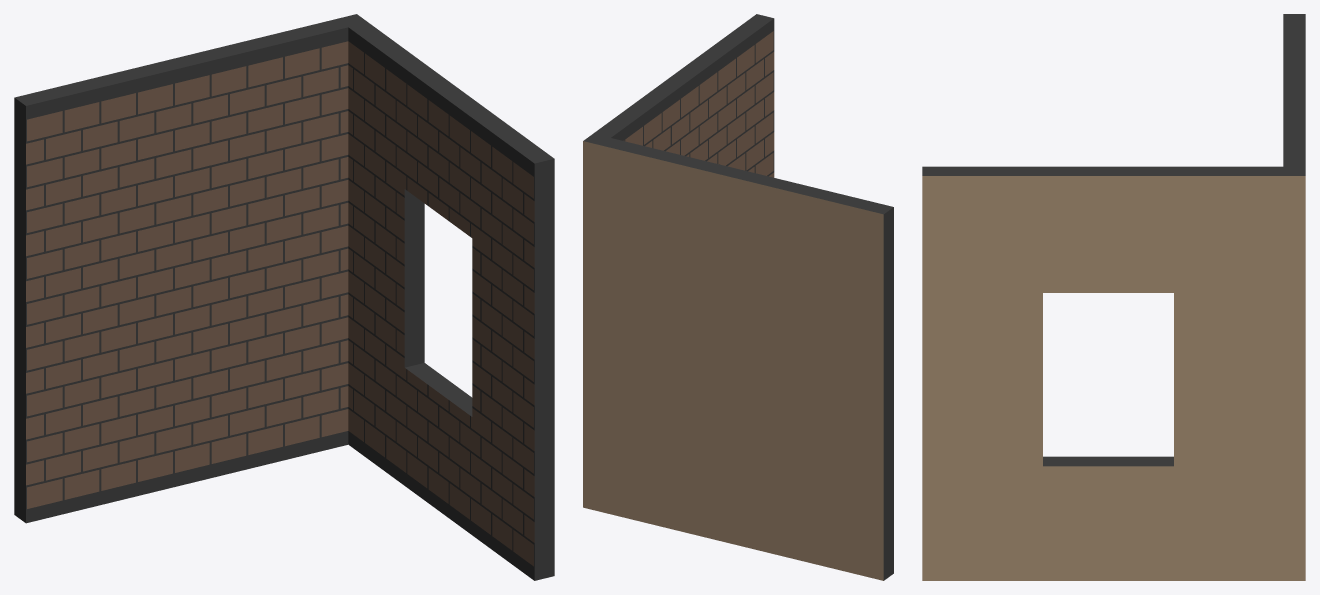
File: Wall3_C10_08.fbx
The picture shows the model from 3 angles, left to right: view 1: azimuth 30°, elevation 25°; view 2: azimuth 150°, elevation 25°; view 3: azimuth 270°, elevation 25°; orthographic projection. The views are drawn at different scales.
Visible parts, largest first — view 1: Wall3_C10_08; view 2: Wall3_C10_08; view 3: Wall3_C10_08.
Boxes of the visible parts, box(x1,y1,x2,y2) form: Wall3_C10_08: box(14, 14, 554, 580); Wall3_C10_08: box(583, 14, 893, 580); Wall3_C10_08: box(922, 14, 1305, 580).
Size of the model in its own units: 258 by 300 by 258.
